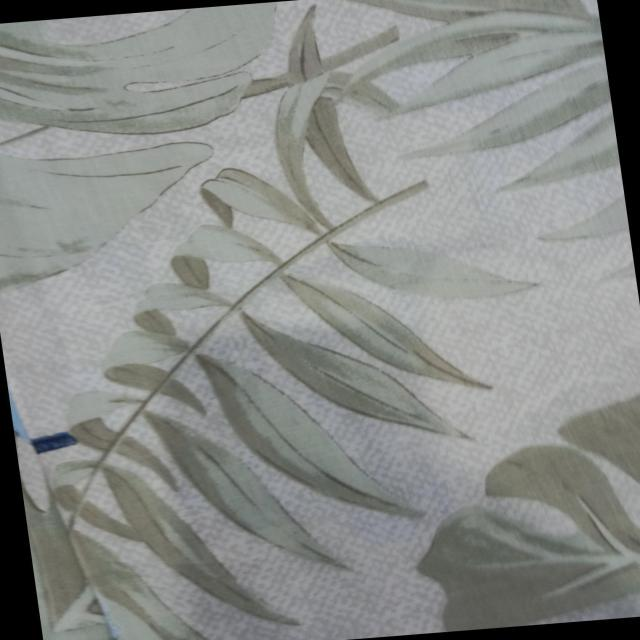baekra: (21, 253, 514, 640)
